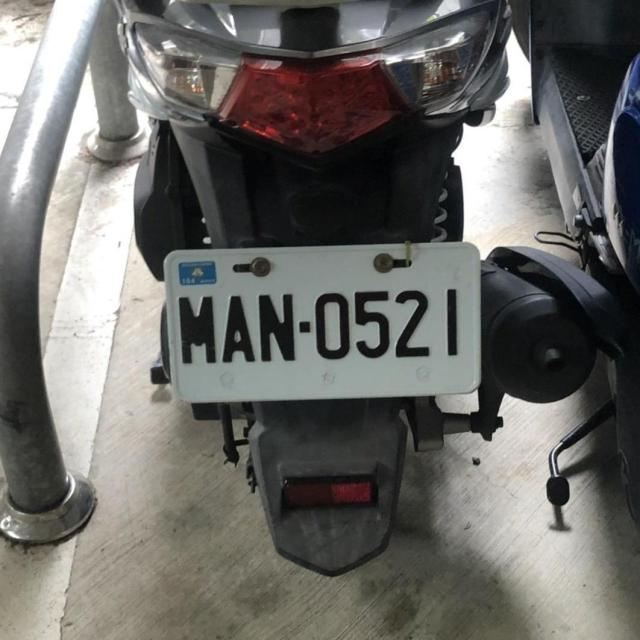W: (158, 235, 484, 408)
